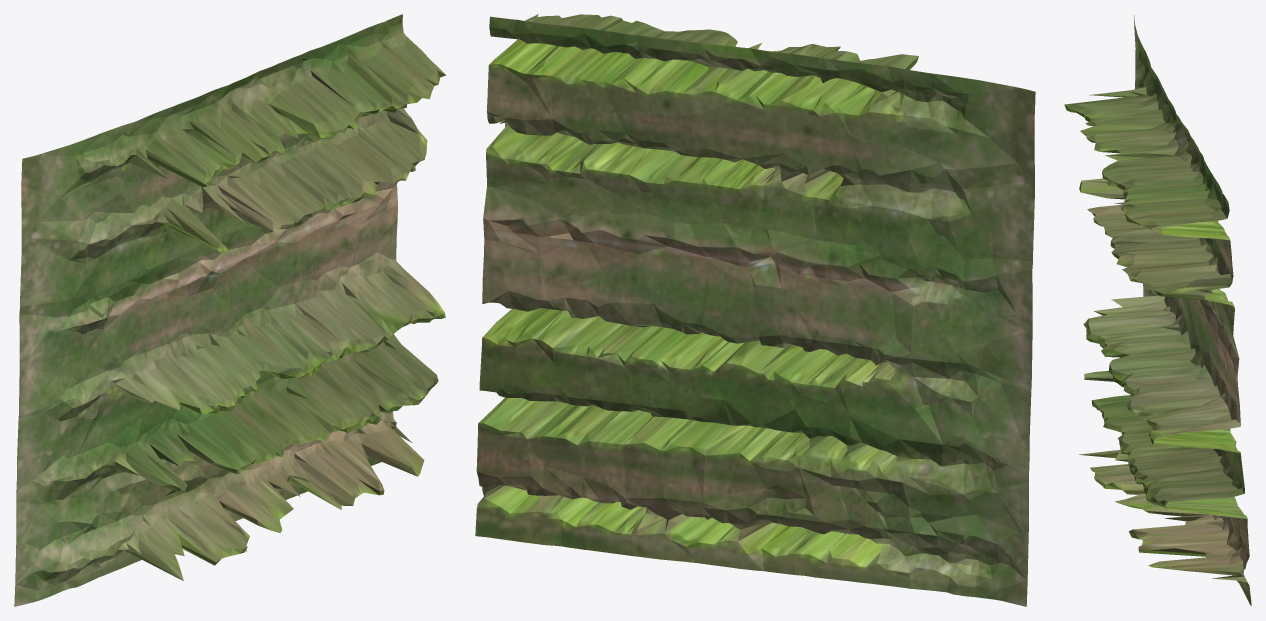
The model's file is map_250_20.obj.
The picture shows the model from 3 angles, left to right: view 1: azimuth 30°, elevation 25°; view 2: azimuth 150°, elevation 25°; view 3: azimuth 270°, elevation 25°; orthographic projection. The views are drawn at different scales.
Visible parts, largest first — view 1: grp1; view 2: grp1; view 3: grp1.
Boxes of the visible parts, bbox=[...] form: grp1: bbox=[14, 14, 446, 606]; grp1: bbox=[475, 14, 1035, 606]; grp1: bbox=[1064, 15, 1251, 605].
Bounding box in the file's own units: 10 × 10 × 4.2.
1 material, 1 textured.
